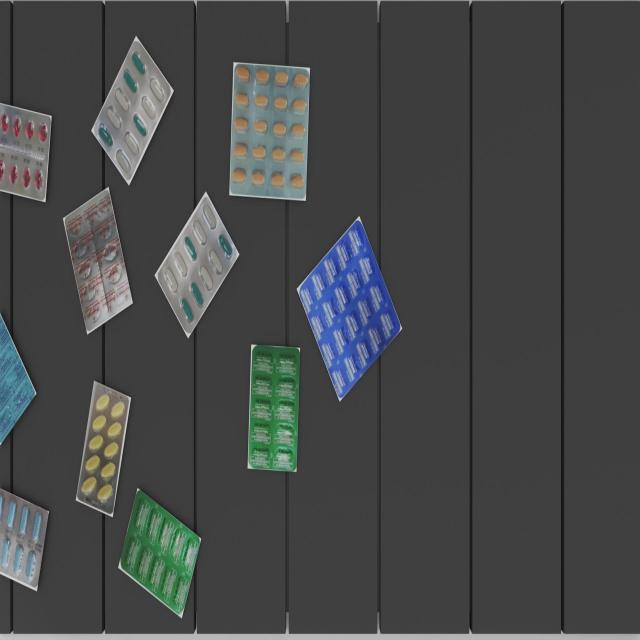blister: (300, 220, 400, 402), (91, 37, 170, 180), (229, 62, 310, 198), (158, 200, 236, 338), (121, 489, 203, 610), (65, 186, 133, 330), (75, 382, 130, 514), (248, 343, 300, 471), (0, 308, 38, 452), (0, 482, 47, 596), (0, 102, 52, 200)
